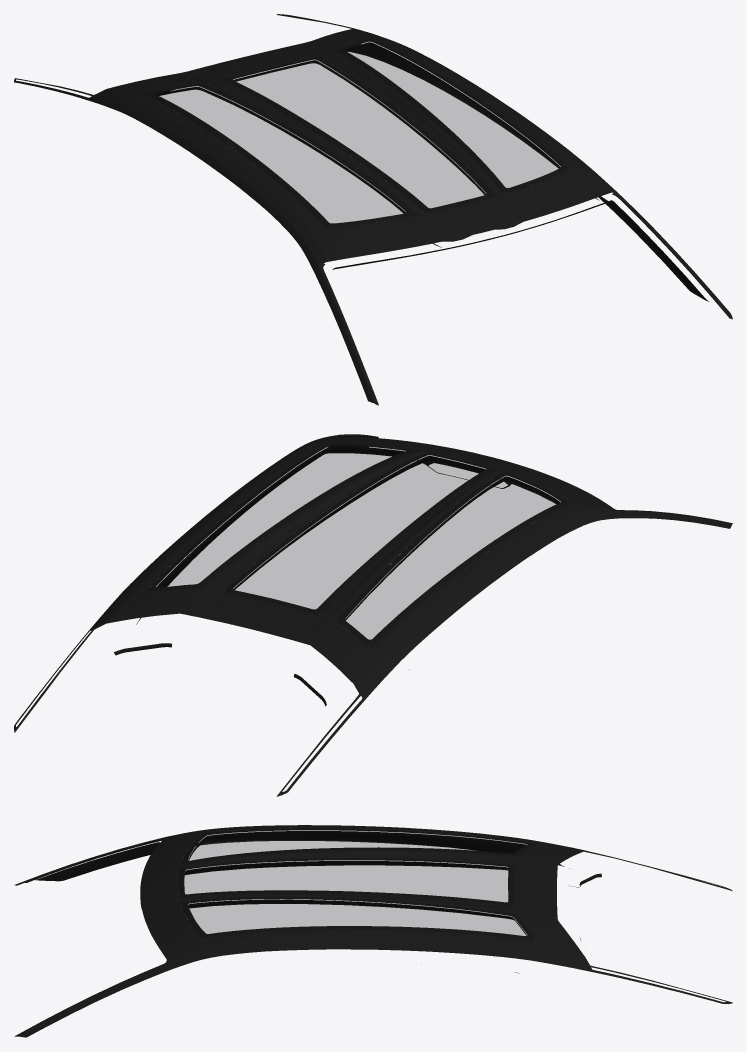
File: cap.glb
3 views of the same model, one above another, from view 1: azimuth 30°, elevation 25°; view 2: azimuth 150°, elevation 25°; view 3: azimuth 270°, elevation 25° (orthographic). The views are drawn at different scales.
Parts seen in each view (by area): view 1: body:Paint_Geo_lodABody_lodA_Lamborghini_IVRewardRecycled_2.; view 2: body:Paint_Geo_lodABody_lodA_Lamborghini_IVRewardRecycled_2.; view 3: body:Paint_Geo_lodABody_lodA_Lamborghini_IVRewardRecycled_2..
Part boxes in pixels (x1,y1,x2,y2): body:Paint_Geo_lodABody_lodA_Lamborghini_IVRewardRecycled_2.: (14, 14, 732, 405); body:Paint_Geo_lodABody_lodA_Lamborghini_IVRewardRecycled_2.: (14, 434, 732, 796); body:Paint_Geo_lodABody_lodA_Lamborghini_IVRewardRecycled_2.: (14, 825, 732, 1037).
Size of the model in its own units: 0.0167 by 0.00439 by 0.0329.
5 materials, 3 textured.
